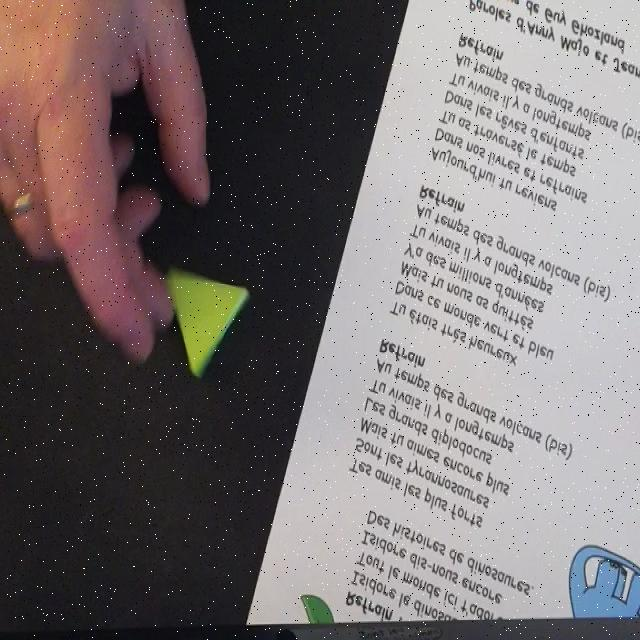triangle: (163, 270, 251, 379)
